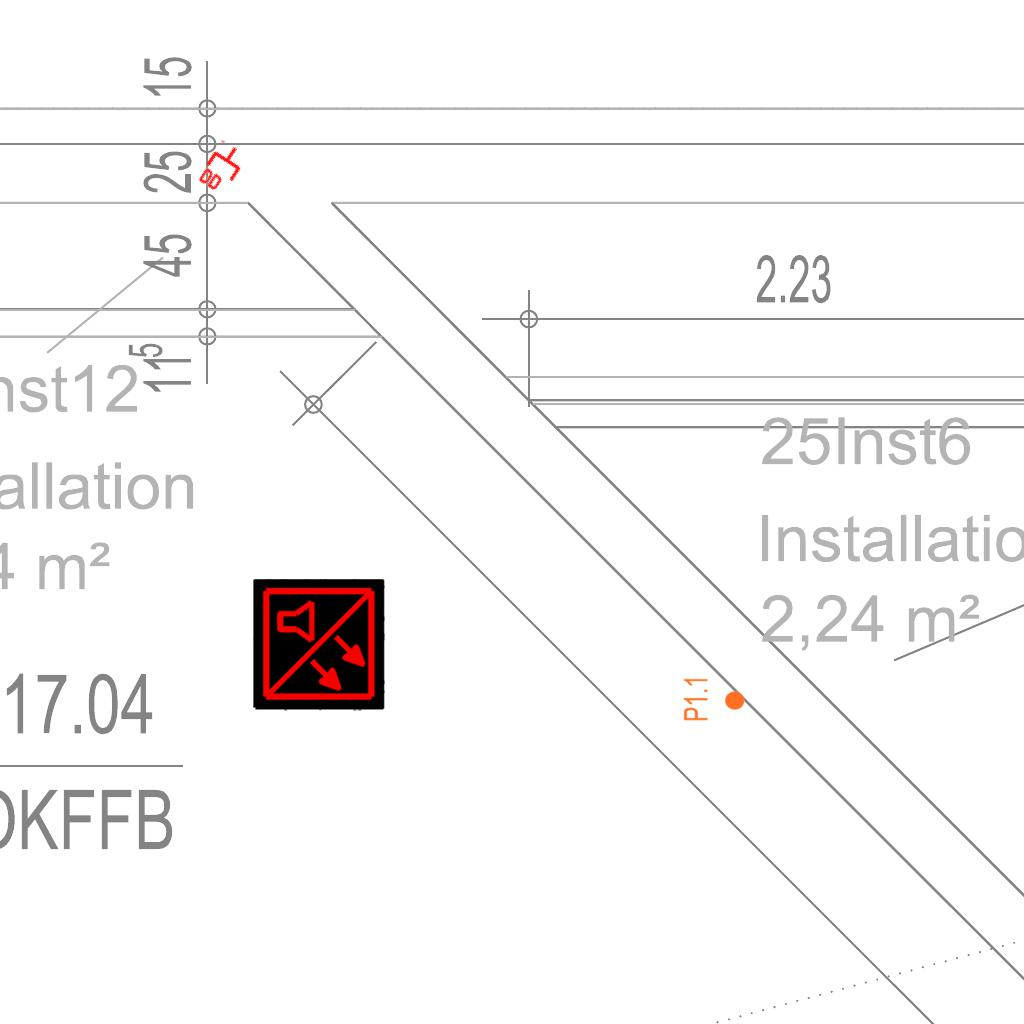Datenanschluss_zweifach: (194, 137, 252, 200)
Downlight_LED_Einbauleuchten_Flur: (682, 676, 746, 722)
OKW_Multisensormelder_(Kombination_optischer_Rauch-Kahlenmonoxid_Waerme-Melder): (253, 579, 385, 711)
